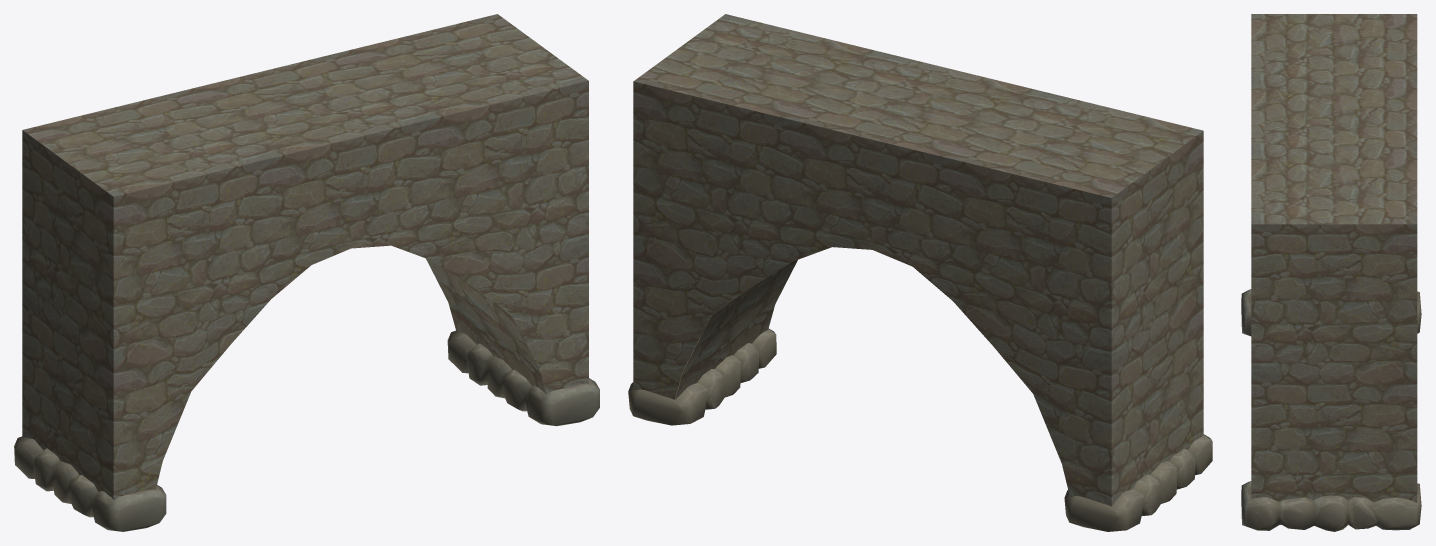
The model's file is SM_FW01_Ruins_Int_Ceiling_B_2x6_Corridor_01.fbx.
3 views of the same model, side by side, from view 1: azimuth 30°, elevation 25°; view 2: azimuth 150°, elevation 25°; view 3: azimuth 270°, elevation 25° (orthographic). The views are drawn at different scales.
Parts seen in each view (by area): view 1: SM_FW01_Ruins_Int_Ceiling_B_2x6_Corridor_01, SM_FW01_Ruins_Int_Ceiling_B_2x6_Corridor_01_LOD0; view 2: SM_FW01_Ruins_Int_Ceiling_B_2x6_Corridor_01, SM_FW01_Ruins_Int_Ceiling_B_2x6_Corridor_01_LOD0; view 3: SM_FW01_Ruins_Int_Ceiling_B_2x6_Corridor_01, SM_FW01_Ruins_Int_Ceiling_B_2x6_Corridor_01_LOD0.
Boxes of the visible parts, x1,y1,x2,y2 form: SM_FW01_Ruins_Int_Ceiling_B_2x6_Corridor_01: (22, 14, 588, 499); SM_FW01_Ruins_Int_Ceiling_B_2x6_Corridor_01_LOD0: (14, 330, 599, 531); SM_FW01_Ruins_Int_Ceiling_B_2x6_Corridor_01: (633, 14, 1203, 506); SM_FW01_Ruins_Int_Ceiling_B_2x6_Corridor_01_LOD0: (628, 328, 1212, 531); SM_FW01_Ruins_Int_Ceiling_B_2x6_Corridor_01: (1251, 14, 1417, 524); SM_FW01_Ruins_Int_Ceiling_B_2x6_Corridor_01_LOD0: (1241, 289, 1421, 531).
Size of what is drawn, in the model's own units: 6.32 by 4.08 by 2.17.
